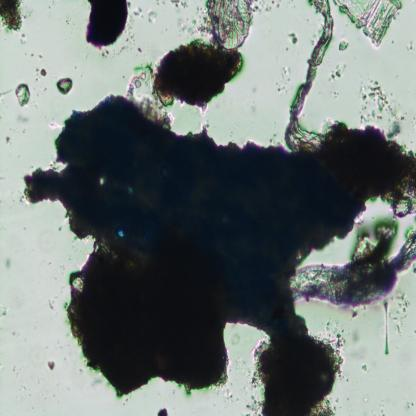Background material: (66, 244, 232, 400), (151, 0, 255, 110), (252, 323, 342, 415), (353, 122, 416, 220), (334, 0, 404, 46), (85, 0, 129, 49), (23, 167, 68, 213), (359, 78, 401, 126), (127, 66, 154, 95), (0, 0, 23, 34), (393, 287, 410, 329), (382, 301, 390, 356), (55, 74, 75, 96), (16, 81, 32, 106), (35, 66, 49, 84), (331, 67, 345, 81), (287, 33, 299, 45), (339, 39, 349, 52), (46, 360, 56, 372), (157, 405, 168, 415)
Cellulose filter fibre: (292, 226, 416, 306), (284, 0, 333, 153)
Fragment: (37, 94, 351, 336)
